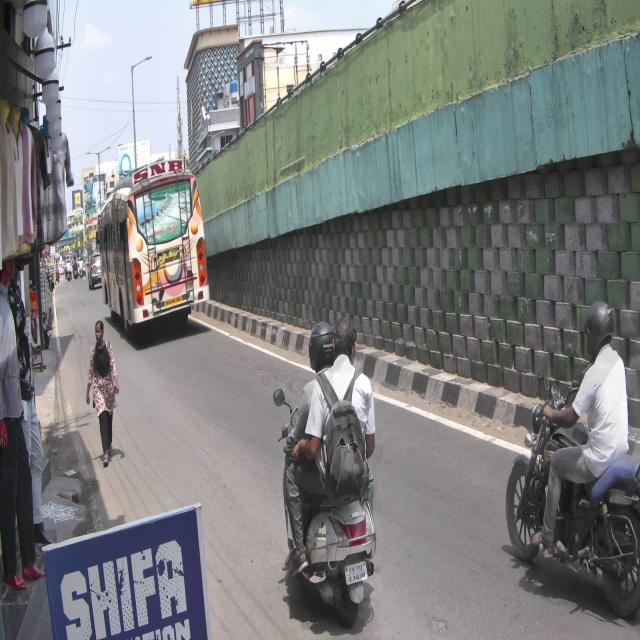double_rider: (274, 315, 378, 633)
single_rider: (506, 298, 640, 615)
